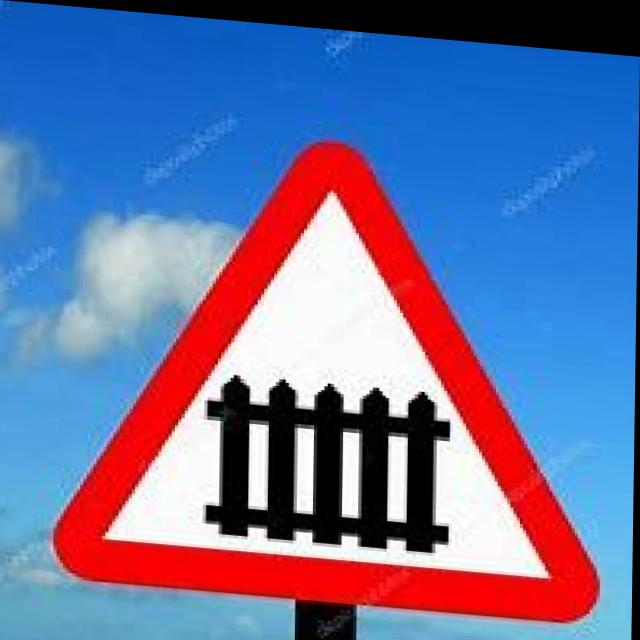GUARDED_LEVEL_CROSSING: (61, 115, 601, 616)
